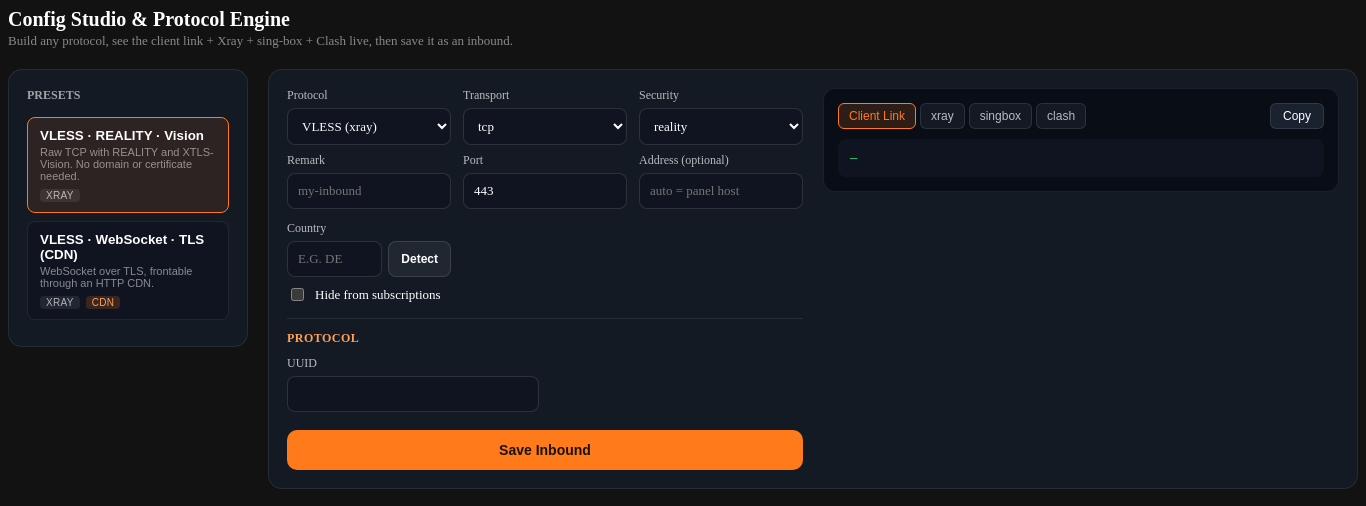
Scenario: StudioView presets › seeds the form with the whole preset node, not just its protocol
Click the button with test id "studio-preset" that starts with "VLESS · WebSocket · TLS (CDN)" at (128, 270), box [27,221,229,320]
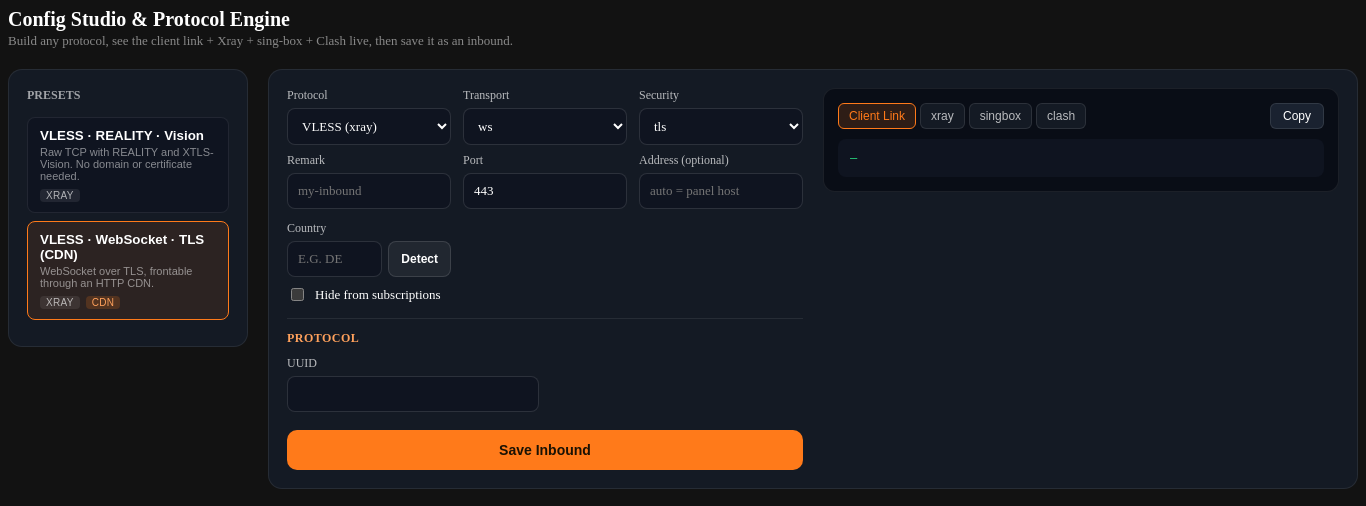
Expected: the dropdown with test id "transport-select" shows "ws", [463,108,627,145]
Expected: the dropdown with test id "security-select" shows "tls", [639,108,803,145]
